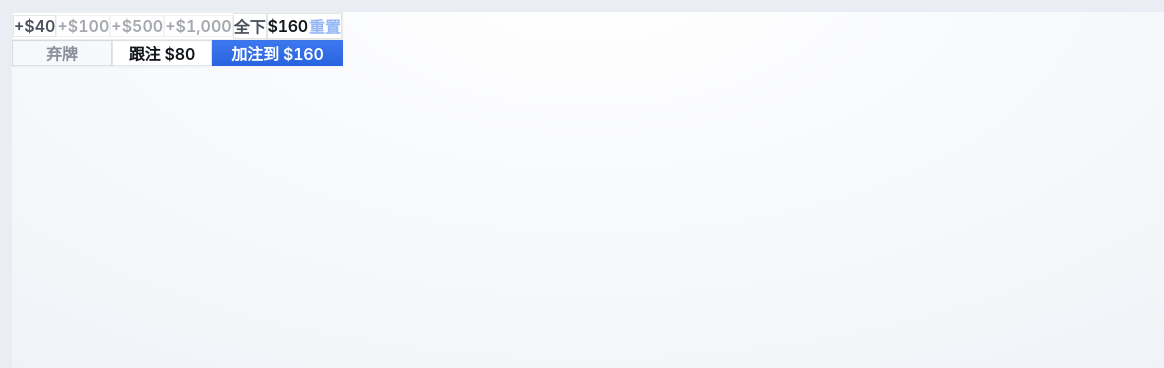
Scenario: 加价步进器 › 剩余额度不够一档时那一档禁用，不会被夹成全下
The width and height of the screenshot is (1164, 368).
Check: the button "+$100" is disabled, box [56,15,110,37]
Check: the button "+$1,000" is disabled, box [164,15,233,37]
What coordinates should you click on to do the following:
click the button "+$40"
I would click on:
 (35, 26)
Its box is [13,15,56,37].
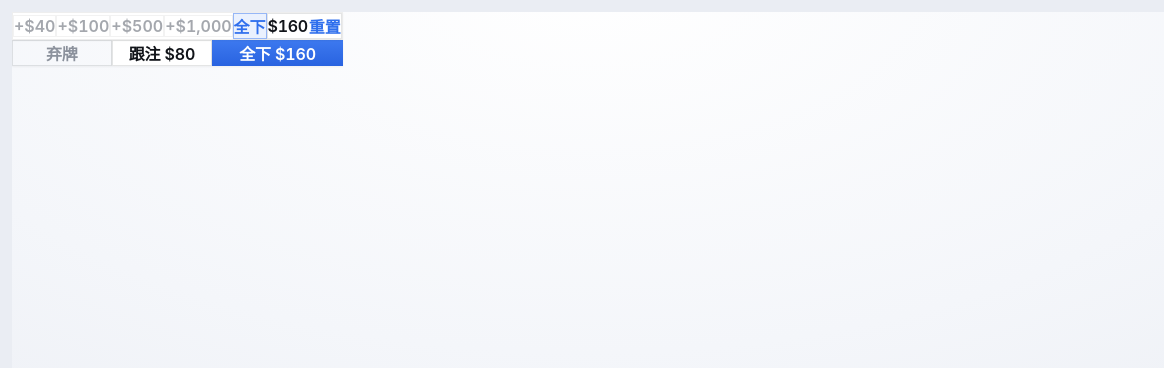
Check: the button "全下 $160" is shown, box [212,40,343,66]
Check: the button "+$40" is disabled, box [13,15,56,37]
